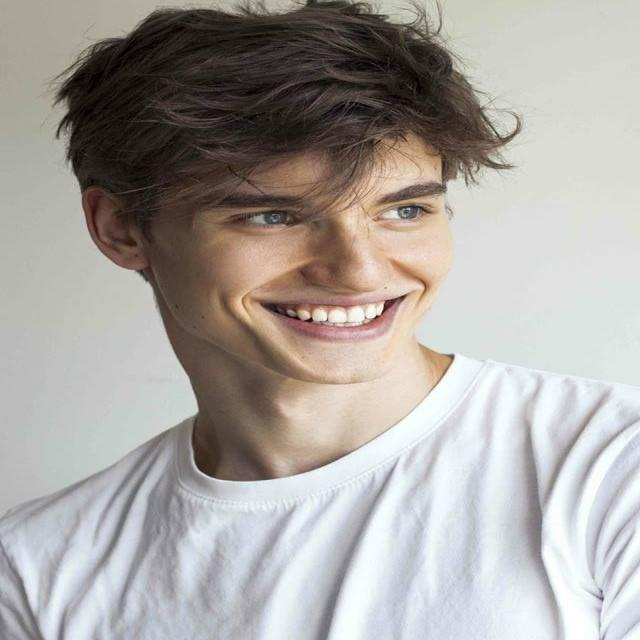front: (215, 163, 450, 370)
